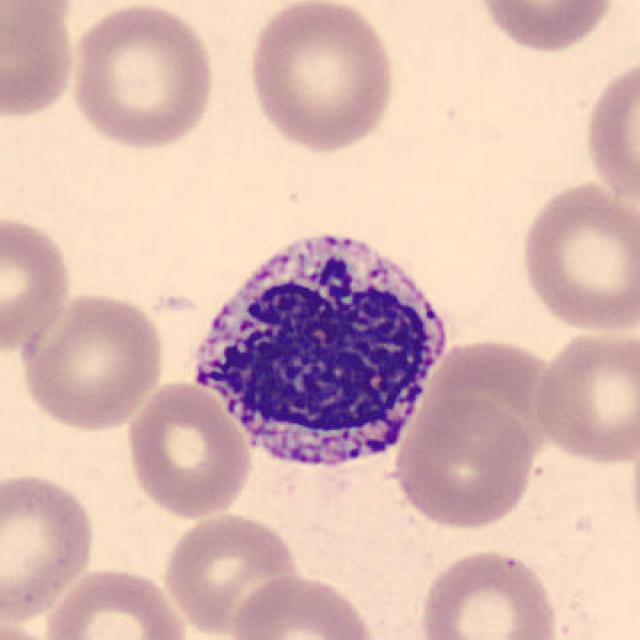Basophil: (179, 215, 457, 487)
RBC: (244, 0, 400, 155), (65, 0, 218, 152), (16, 287, 169, 434), (389, 393, 539, 531), (514, 176, 638, 337), (123, 377, 256, 522), (158, 510, 300, 638), (430, 341, 564, 464), (0, 467, 100, 624), (530, 324, 638, 468), (414, 545, 562, 640), (41, 564, 192, 640), (0, 209, 76, 359), (228, 569, 382, 640), (580, 51, 638, 217), (0, 2, 80, 122), (473, 0, 617, 55), (0, 0, 80, 51), (0, 615, 64, 640)
